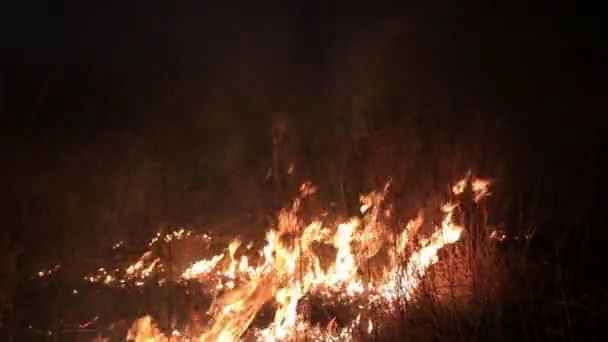fire: (257, 286, 359, 342), (192, 277, 265, 342), (260, 214, 321, 278), (375, 248, 435, 300), (333, 220, 356, 282), (360, 192, 381, 252), (126, 252, 160, 281), (125, 316, 161, 341), (182, 258, 222, 278), (427, 221, 460, 244), (395, 217, 421, 244), (453, 180, 489, 196), (227, 242, 236, 277), (241, 256, 247, 273)
